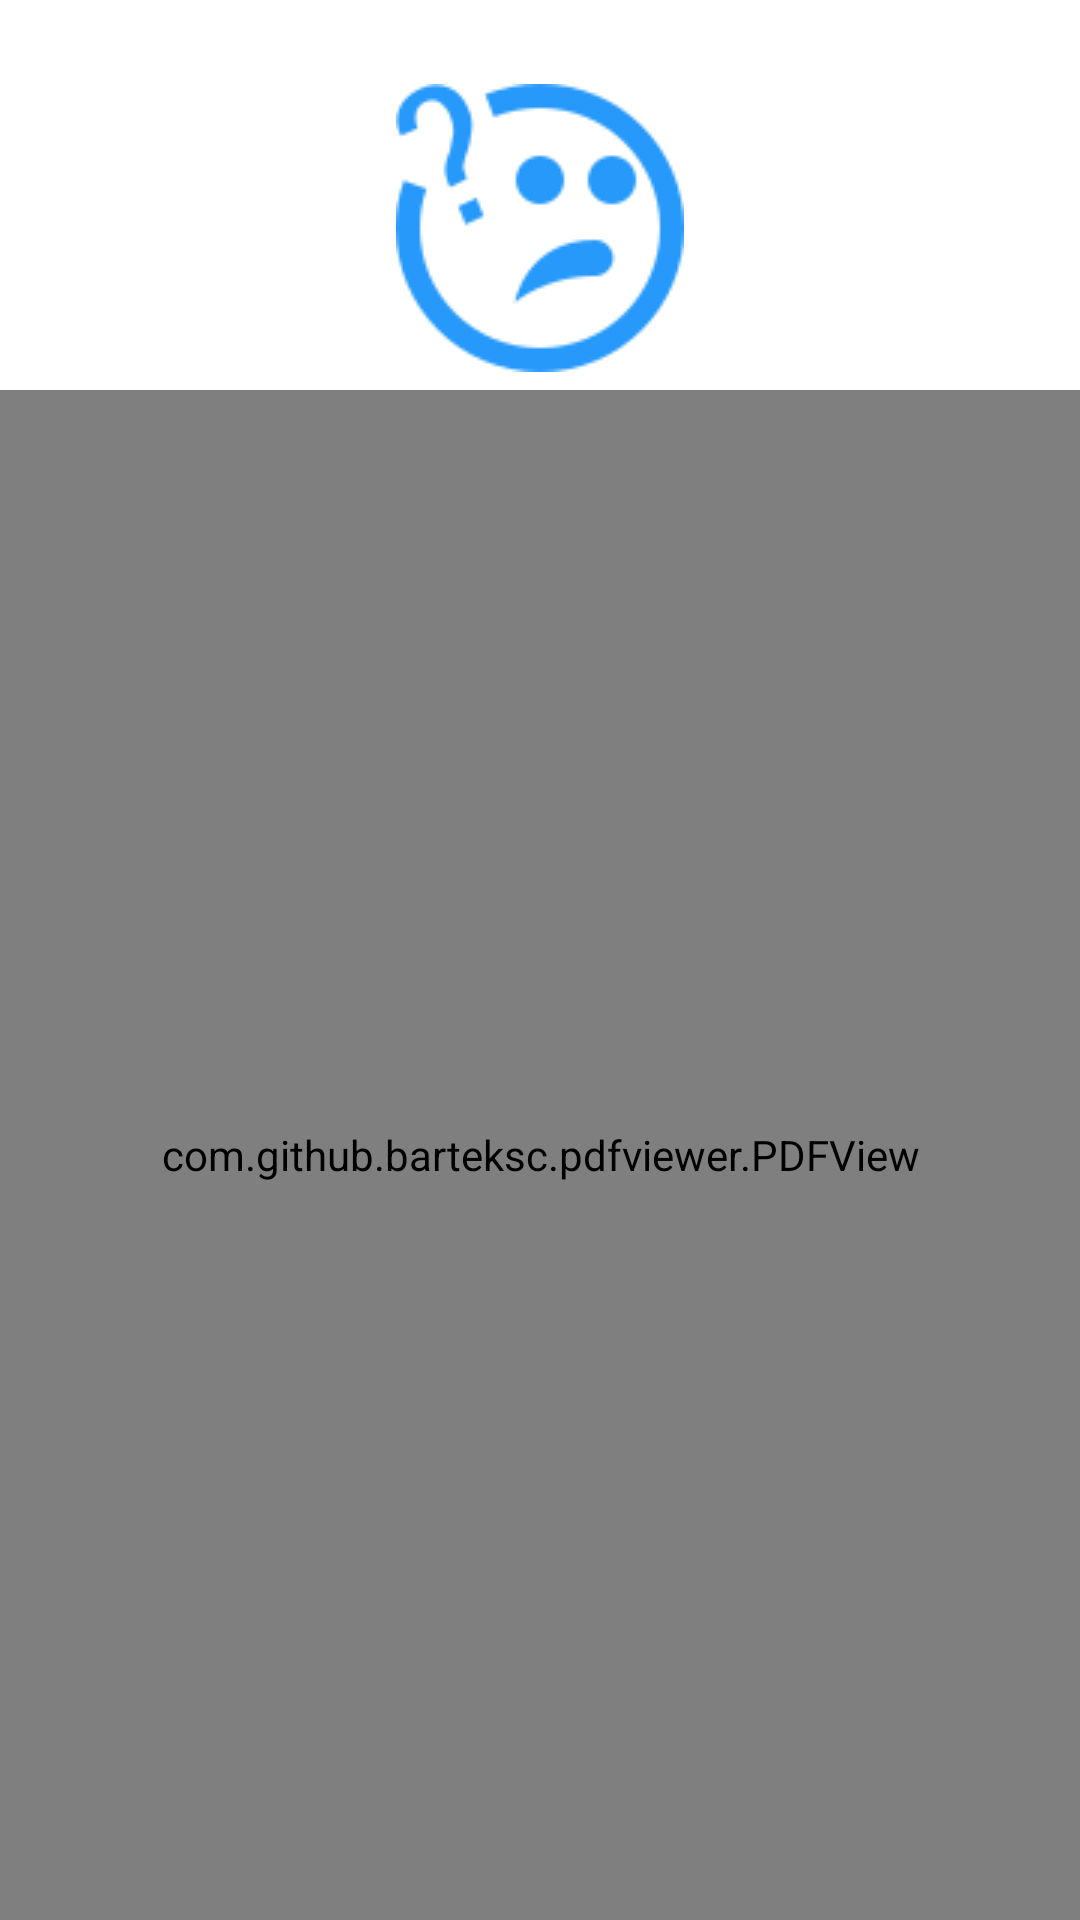

Locate icon controls on the screen. Image size 1080px×1920px, boxes as bbox=(x1, y1, x2, y2).
question: bbox=(396, 84, 684, 372)
